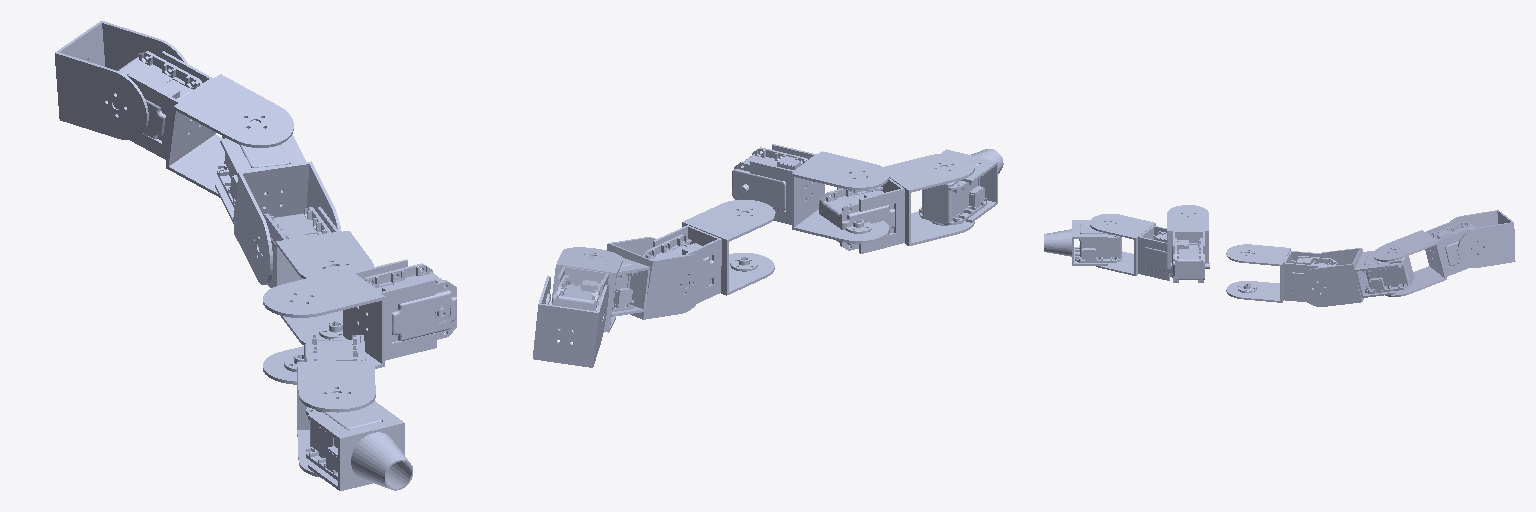
The robot description file, URDF, robot "TestModule":
<?xml version="1.0" encoding="utf-8"?>
<!-- This URDF was automatically created by SolidWorks to URDF Exporter! Originally created by [author] ([email redacted]) 
     Commit Version: 1.6.0-4-g7f85cfe  Build Version: 1.6.7995.38578
     For more information, please see http://wiki.ros.org/sw_urdf_exporter -->
<robot
  name="TestModule">
  <link
    name="base_link">
    <inertial>
      <origin
        xyz="-6.76297808727133E-09 0.0270550012386077 -2.75401897972469E-05"
        rpy="0 0 0" />
      <mass
        value="0.0495277420594313" />
      <inertia
        ixx="1.41497431902948E-05"
        ixy="-5.54976014034712E-13"
        ixz="3.69455240015949E-12"
        iyy="9.94040203055118E-06"
        iyz="-1.82886992505458E-07"
        izz="1.24597264635174E-05" />
    </inertial>
    <visual>
      <origin
        xyz="0 0 0"
        rpy="0 0 0" />
      <geometry>
        <mesh
          filename="package://TestModule/meshes/base_link.STL" />
      </geometry>
      <material
        name="">
        <color
          rgba="0.792156862745098 0.819607843137255 0.933333333333333 1" />
      </material>
    </visual>
    <collision>
      <origin
        xyz="0 0 0"
        rpy="0 0 0" />
      <geometry>
        <mesh
          filename="package://TestModule/meshes/base_link.STL" />
      </geometry>
    </collision>
  </link>
  <link
    name="head">
    <inertial>
      <origin
        xyz="0.000524437183906545 -0.0129585093549575 0.000453299518954085"
        rpy="0 0 0" />
      <mass
        value="0.00301708508515438" />
      <inertia
        ixx="4.38014874293169E-07"
        ixy="4.25463023339811E-23"
        ixz="-1.06031804154792E-38"
        iyy="4.43521393164985E-07"
        iyz="9.48867566928348E-39"
        izz="4.38014874293169E-07" />
    </inertial>
    <visual>
      <origin
        xyz="0 0 0"
        rpy="0 0 0" />
      <geometry>
        <mesh
          filename="package://TestModule/meshes/head.STL" />
      </geometry>
      <material
        name="">
        <color
          rgba="0.792156862745098 0.819607843137255 0.933333333333333 1" />
      </material>
    </visual>
    <collision>
      <origin
        xyz="0 0 0"
        rpy="0 0 0" />
      <geometry>
        <mesh
          filename="package://TestModule/meshes/head.STL" />
      </geometry>
    </collision>
  </link>
  <joint
    name="base"
    type="fixed">
    <origin
      xyz="0 0 0"
      rpy="0 0 0" />
    <parent
      link="base_link" />
    <child
      link="head" />
    <axis
      xyz="0 0 0" />
  </joint>
  <link
    name="link1">
    <inertial>
      <origin
        xyz="0.0280266508378637 0.050696968075919 -0.0215106904993164"
        rpy="0 0 0" />
      <mass
        value="0.065417433868186" />
      <inertia
        ixx="2.24094591970624E-05"
        ixy="-2.69240795685027E-06"
        ixz="-6.87230658368201E-09"
        iyy="1.94647754174922E-05"
        iyz="-1.24130496938715E-08"
        izz="2.25049138700149E-05" />
    </inertial>
    <visual>
      <origin
        xyz="0 0 0"
        rpy="0 0 0" />
      <geometry>
        <mesh
          filename="package://TestModule/meshes/link1.STL" />
      </geometry>
      <material
        name="">
        <color
          rgba="0.792156862745098 0.819607843137255 0.933333333333333 1" />
      </material>
    </visual>
    <collision>
      <origin
        xyz="0 0 0"
        rpy="0 0 0" />
      <geometry>
        <mesh
          filename="package://TestModule/meshes/link1.STL" />
      </geometry>
    </collision>
  </link>
  <joint
    name="J1"
    type="continuous">
    <origin
      xyz="0 0.04109 0.0236"
      rpy="0 0 0" />
    <parent
      link="base_link" />
    <child
      link="link1" />
    <axis
      xyz="0 0 1" />
  </joint>
  <link
    name="link2">
    <inertial>
      <origin
        xyz="0.0469042070552974 0.0402501542807171 0.000441593610935764"
        rpy="0 0 0" />
      <mass
        value="0.065417429839142" />
      <inertia
        ixx="2.14336904079478E-05"
        ixy="-1.95182692023296E-06"
        ixz="-9.27013945723663E-08"
        iyy="1.8947838180617E-05"
        iyz="-2.08249311891081E-07"
        izz="2.39976170706746E-05" />
    </inertial>
    <visual>
      <origin
        xyz="0 0 0"
        rpy="0 0 0" />
      <geometry>
        <mesh
          filename="package://TestModule/meshes/link2.STL" />
      </geometry>
      <material
        name="">
        <color
          rgba="0.792156862745098 0.819607843137255 0.933333333333333 1" />
      </material>
    </visual>
    <collision>
      <origin
        xyz="0 0 0"
        rpy="0 0 0" />
      <geometry>
        <mesh
          filename="package://TestModule/meshes/link2.STL" />
      </geometry>
    </collision>
  </link>
  <joint
    name="J2"
    type="continuous">
    <origin
      xyz="0.023978 0.1245 0.0021"
      rpy="0 0 0" />
    <parent
      link="base_link" />
    <child
      link="link2" />
    <axis
      xyz="0 0 1" />
  </joint>
  <link
    name="link3">
    <inertial>
      <origin
        xyz="-0.0123754985795076 0.0565779592492555 0.0215106899619177"
        rpy="0 0 0" />
      <mass
        value="0.065417436974768" />
      <inertia
        ixx="2.36427864037809E-05"
        ixy="1.44782811485755E-06"
        ixz="-3.04186225266554E-09"
        iyy="1.82314489672853E-05"
        iyz="1.38586575171965E-08"
        izz="2.25049146119028E-05" />
    </inertial>
    <visual>
      <origin
        xyz="0 0 0"
        rpy="0 0 0" />
      <geometry>
        <mesh
          filename="package://TestModule/meshes/link3.STL" />
      </geometry>
      <material
        name="">
        <color
          rgba="0.792156862745098 0.819607843137255 0.933333333333333 1" />
      </material>
    </visual>
    <collision>
      <origin
        xyz="0 0 0"
        rpy="0 0 0" />
      <geometry>
        <mesh
          filename="package://TestModule/meshes/link3.STL" />
      </geometry>
    </collision>
  </link>
  <joint
    name="J3"
    type="prismatic">
    <origin
      xyz="0.083481 0.18807 0.026367"
      rpy="3.1409 0.013637 3.1416" />
    <parent
      link="base_link" />
    <child
      link="link3" />
    <axis
      xyz="0 0 1" />
    <limit
      lower="0"
      upper="0"
      effort="0"
      velocity="0" />
  </joint>
  <link
    name="link4">
    <inertial>
      <origin
        xyz="0.0556666216993839 0.0160295991468997 0.0213066206836878"
        rpy="0 0 0" />
      <mass
        value="0.0654174306029862" />
      <inertia
        ixx="1.84536923891001E-05"
        ixy="-1.80334125765271E-06"
        ixz="2.91606689059215E-08"
        iyy="2.3425155067091E-05"
        iyz="-8.33540535048116E-08"
        izz="2.25002990339097E-05" />
    </inertial>
    <visual>
      <origin
        xyz="0 0 0"
        rpy="0 0 0" />
      <geometry>
        <mesh
          filename="package://TestModule/meshes/link4.STL" />
      </geometry>
      <material
        name="">
        <color
          rgba="0.792156862745098 0.819607843137255 0.933333333333333 1" />
      </material>
    </visual>
    <collision>
      <origin
        xyz="0 0 0"
        rpy="0 0 0" />
      <geometry>
        <mesh
          filename="package://TestModule/meshes/link4.STL" />
      </geometry>
    </collision>
  </link>
  <joint
    name="J4"
    type="prismatic">
    <origin
      xyz="0.08293 0.27486 0.0049189"
      rpy="1.5576 0.059977 1.3541" />
    <parent
      link="base_link" />
    <child
      link="link4" />
    <axis
      xyz="0.95993 0.28025 0" />
    <limit
      lower="0"
      upper="0"
      effort="0"
      velocity="0" />
  </joint>
  <link
    name="link5">
    <inertial>
      <origin
        xyz="-0.0226920572684279 -0.0532986524485344 0.0215106903623613"
        rpy="0 0 0" />
      <mass
        value="0.0654174406564615" />
      <inertia
        ixx="2.31935756622329E-05"
        ixy="-2.07972462066008E-06"
        ixz="-5.54972786198273E-09"
        iyy="1.86806621367134E-05"
        iyz="-1.30581472153084E-08"
        izz="2.25049157288236E-05" />
    </inertial>
    <visual>
      <origin
        xyz="0 0 0"
        rpy="0 0 0" />
      <geometry>
        <mesh
          filename="package://TestModule/meshes/link5.STL" />
      </geometry>
      <material
        name="">
        <color
          rgba="0.792156862745098 0.819607843137255 0.933333333333333 1" />
      </material>
    </visual>
    <collision>
      <origin
        xyz="0 0 0"
        rpy="0 0 0" />
      <geometry>
        <mesh
          filename="package://TestModule/meshes/link5.STL" />
      </geometry>
    </collision>
  </link>
  <joint
    name="J5"
    type="prismatic">
    <origin
      xyz="0.12089 0.34566 0.046738"
      rpy="-2.9144 -0.0087873 -0.0020312" />
    <parent
      link="base_link" />
    <child
      link="link5" />
    <axis
      xyz="0.87595 0.46913 -0.11243" />
    <limit
      lower="0"
      upper="0"
      effort="0"
      velocity="0" />
  </joint>
  <link
    name="link6">
    <inertial>
      <origin
        xyz="-0.0180491074912297 0.00437066108301593 0.0215440346171326"
        rpy="0 0 0" />
      <mass
        value="0.0158896889808625" />
      <inertia
        ixx="8.13328192344155E-06"
        ixy="8.25101152313521E-07"
        ixz="-1.37905152531695E-08"
        iyy="1.13408230222266E-05"
        iyz="3.33942652627005E-09"
        izz="8.35517005485215E-06" />
    </inertial>
    <visual>
      <origin
        xyz="0 0 0"
        rpy="0 0 0" />
      <geometry>
        <mesh
          filename="package://TestModule/meshes/link6.STL" />
      </geometry>
      <material
        name="">
        <color
          rgba="0.792156862745098 0.819607843137255 0.933333333333333 1" />
      </material>
    </visual>
    <collision>
      <origin
        xyz="0 0 0"
        rpy="0 0 0" />
      <geometry>
        <mesh
          filename="package://TestModule/meshes/link6.STL" />
      </geometry>
    </collision>
  </link>
  <joint
    name="J6"
    type="fixed">
    <origin
      xyz="0.07013 0.41905 0.041164"
      rpy="-1.4718 0.22816 -1.1572" />
    <parent
      link="base_link" />
    <child
      link="link6" />
    <axis
      xyz="0 0 0" />
  </joint>
</robot>

--- What the picture shows (computed from the rendered views, not written in the file) ---
Views: 3 orthographic renders of the robot side by side, from view 1: azimuth 30°, elevation 25°; view 2: azimuth 150°, elevation 25°; view 3: azimuth 270°, elevation 25°.
Robot: TestModule — 8 links, 7 joints (2 continuous, 3 prismatic, 2 fixed); root link base_link; default pose: all joints at 0.
Links seen in each view (by area): view 1: link2, link5, link4, link6, link3, link1, base_link, head; view 2: link2, link1, link3, link4, link6, link5, base_link; view 3: link4, link3, link5, link1, link2, link6, base_link, head.
Boxes of the visible links, left/top/right/bottom form: link2: left=263, top=259, right=456, bottom=384; link5: left=118, top=51, right=293, bottom=197; link4: left=215, top=134, right=341, bottom=284; link6: left=55, top=21, right=187, bottom=139; link3: left=263, top=207, right=373, bottom=344; link1: left=297, top=335, right=375, bottom=477; base_link: left=306, top=401, right=404, bottom=490; head: left=351, top=432, right=412, bottom=490; link2: left=732, top=144, right=888, bottom=243; link1: left=819, top=154, right=974, bottom=253; link3: left=643, top=200, right=775, bottom=303; link4: left=607, top=237, right=707, bottom=319; link6: left=533, top=276, right=608, bottom=367; link5: left=551, top=247, right=622, bottom=332; base_link: left=919, top=149, right=997, bottom=224; link4: left=1299, top=248, right=1414, bottom=306; link3: left=1226, top=244, right=1337, bottom=302; link5: left=1373, top=220, right=1474, bottom=296; link1: left=1090, top=214, right=1171, bottom=280; link2: left=1167, top=205, right=1209, bottom=282; link6: left=1450, top=210, right=1515, bottom=267; base_link: left=1072, top=220, right=1121, bottom=265; head: left=1044, top=229, right=1071, bottom=256.
Size in the robot's own frame: 0.1662 by 0.5066 by 0.0882 metres.
Meshes: 8 distinct files referenced, 8 mesh visuals loaded (8 binary STL).